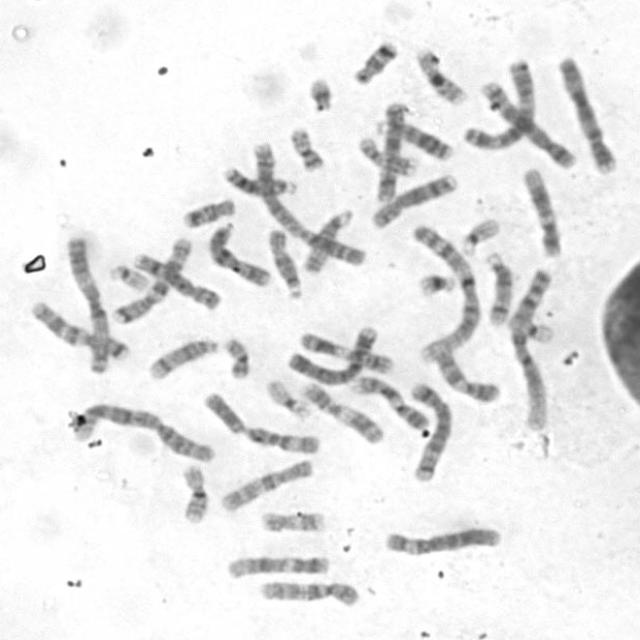A1: (408, 220, 484, 364), (503, 262, 556, 433)
A2: (246, 135, 369, 269), (62, 398, 218, 464)
A3: (461, 53, 538, 150), (62, 230, 113, 375)
B4: (554, 50, 618, 175), (284, 322, 382, 387)
B5: (476, 75, 578, 170), (404, 377, 456, 483)
C10: (215, 454, 318, 514), (255, 574, 362, 608)
C11: (296, 377, 387, 445), (295, 326, 398, 375)
C12: (519, 163, 566, 258), (221, 549, 333, 580)
C6: (197, 387, 322, 455), (379, 520, 504, 557)
C7: (108, 232, 195, 326), (26, 296, 131, 362)
C8: (131, 246, 225, 312), (367, 168, 461, 229)
C9: (347, 370, 432, 432), (429, 342, 504, 404)
D13: (372, 115, 455, 161), (219, 161, 300, 197)
D14: (144, 333, 222, 381), (479, 246, 514, 328)
D15: (298, 204, 355, 275), (264, 223, 305, 302)
E16: (410, 42, 470, 107), (176, 458, 212, 525)
E17: (354, 131, 418, 177), (255, 504, 328, 534)
E18: (348, 35, 401, 86), (177, 193, 238, 229)
F19: (261, 373, 314, 420), (507, 313, 557, 344)
F20: (284, 122, 327, 172), (218, 332, 252, 380)
G21: (413, 266, 460, 298), (303, 71, 336, 113)
G22: (455, 212, 502, 256), (105, 258, 152, 293)
X: (203, 219, 274, 288), (372, 98, 408, 204)
Y: (199, 388, 246, 436)
